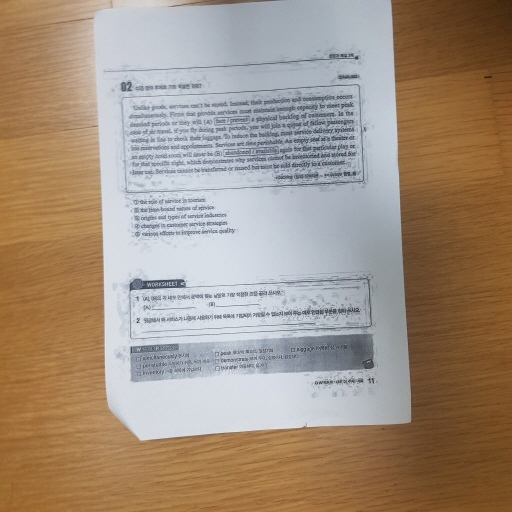Paper_2: (88, 1, 425, 444)
